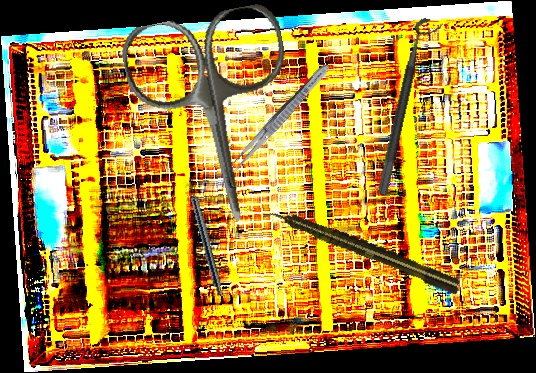Dressing Forceps: (228, 60, 334, 174)
Fixation Ring: (375, 16, 444, 199)
Handpiece: (262, 201, 463, 297), (184, 176, 227, 297)
Iris Scissors: (117, 0, 315, 237)
